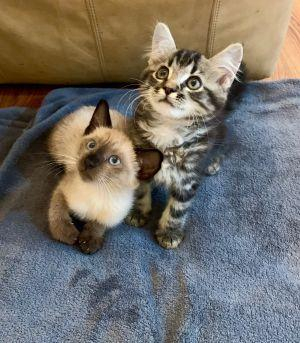siamese: (60, 95, 167, 195)
